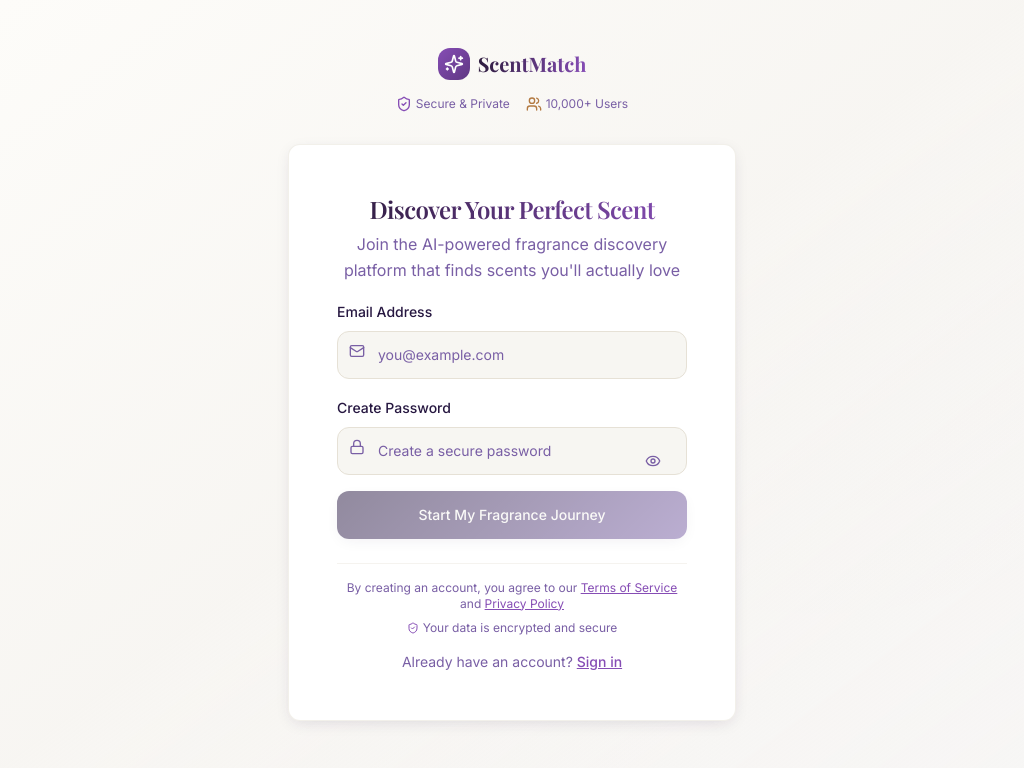
Test: Authentication Mobile Performance › 1. Core Web Vitals Testing › 1.3 Cumulative Layout Shift (CLS) › success state transition maintains stable layout
This screenshot has width=1024, height=768.
Type "user@example.com" into the field labelled "Email Address".
click(512, 354); type("user@example.com")  # box [337, 330, 687, 378]
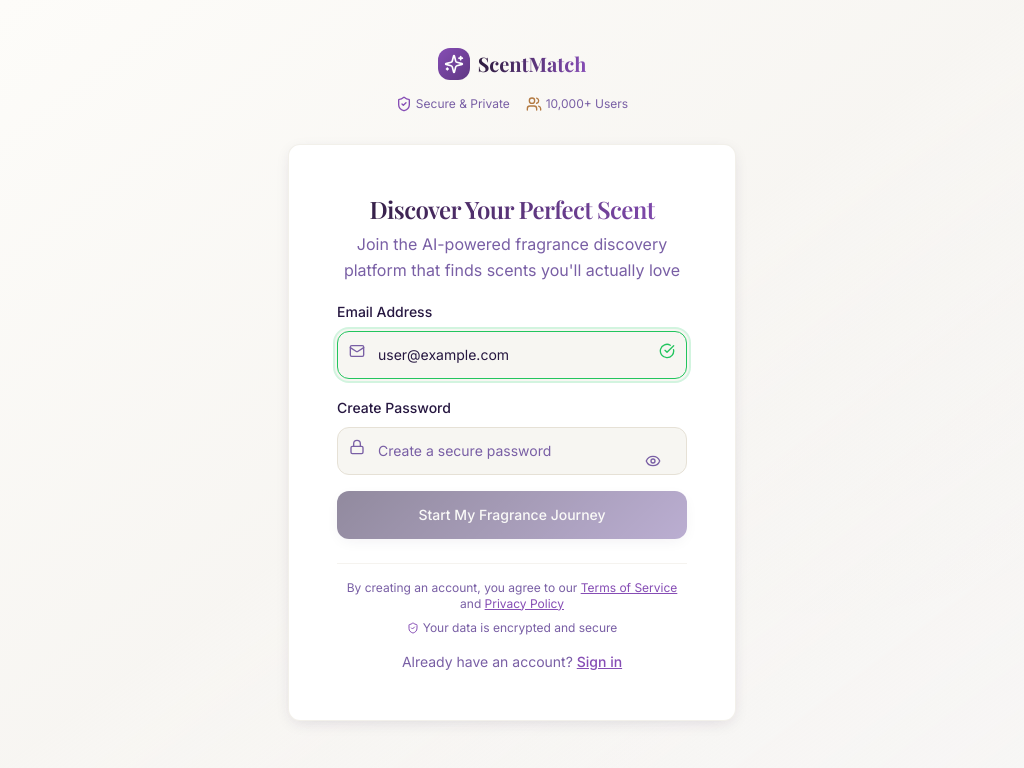
Type "SecurePass123" into the password field labelled "Create Password".
click(512, 450); type("SecurePass123")  # box [337, 426, 687, 474]
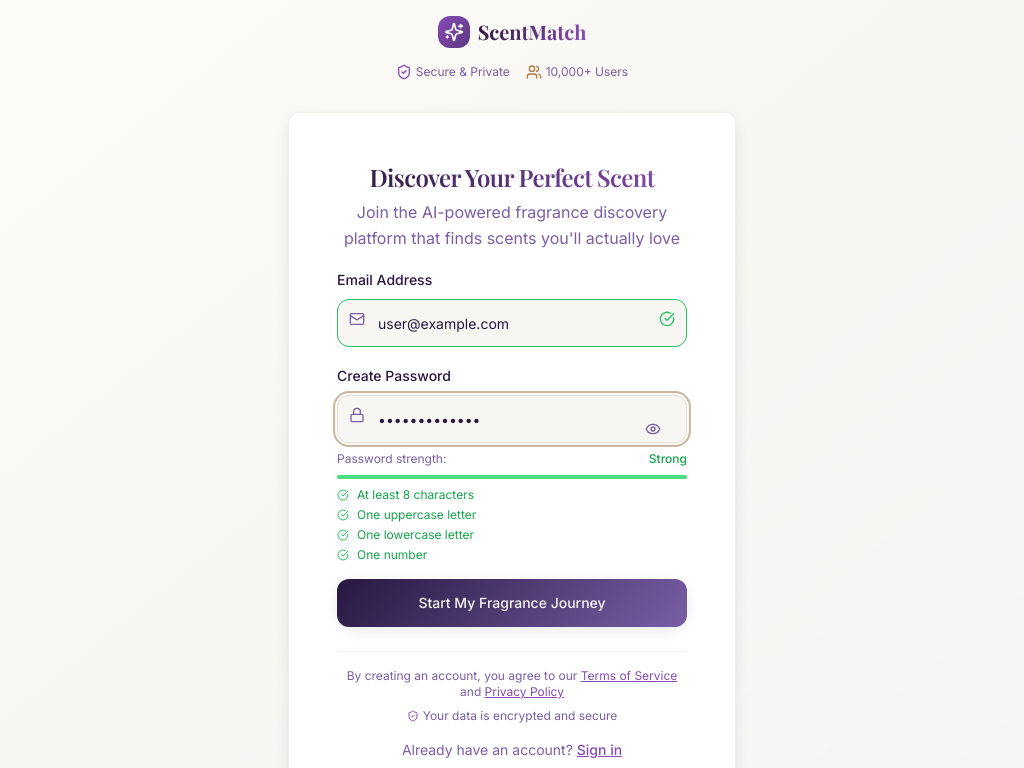
Click the button "Start My Fragrance Journey".
click(512, 603)  # box [337, 579, 687, 627]
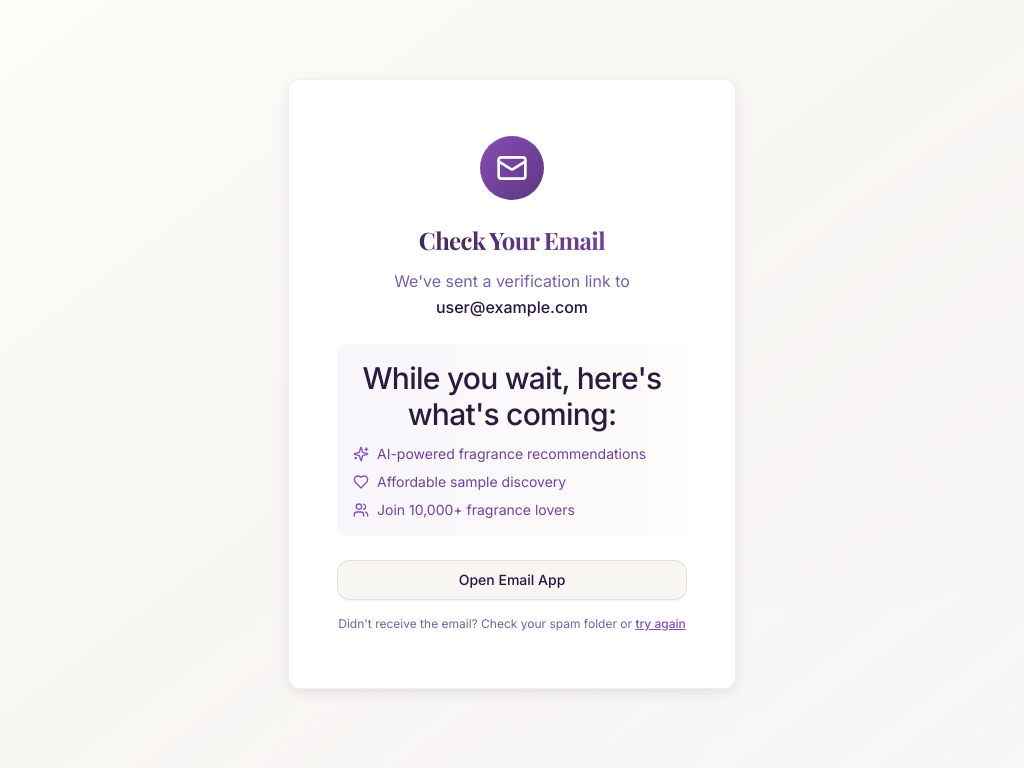
Result: the heading "Check Your Email" is shown at [337, 224, 687, 256]
